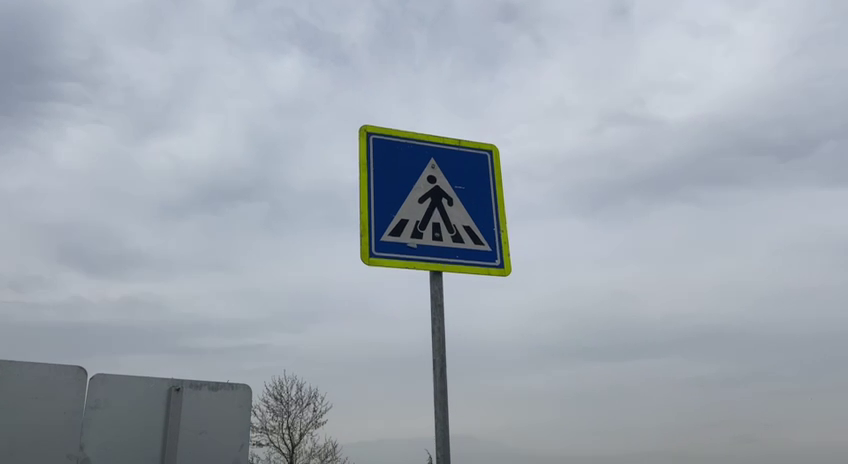pedestrianCrossing: (356, 122, 514, 280)
